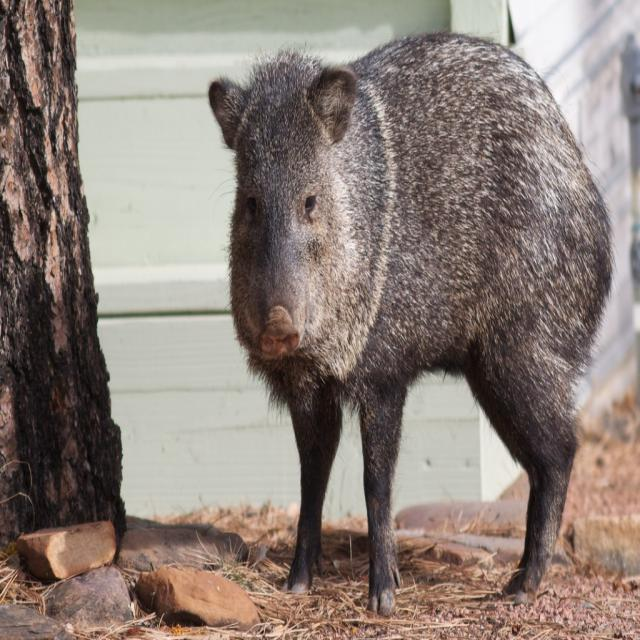Pig: (206, 38, 617, 618)
